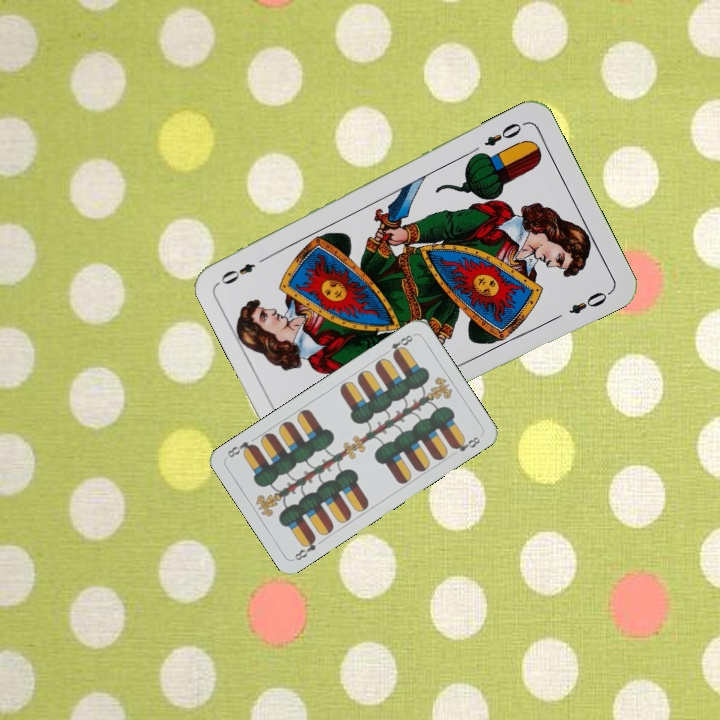E8: (380, 330, 417, 359), (290, 532, 319, 563)
EO: (480, 119, 525, 149)
